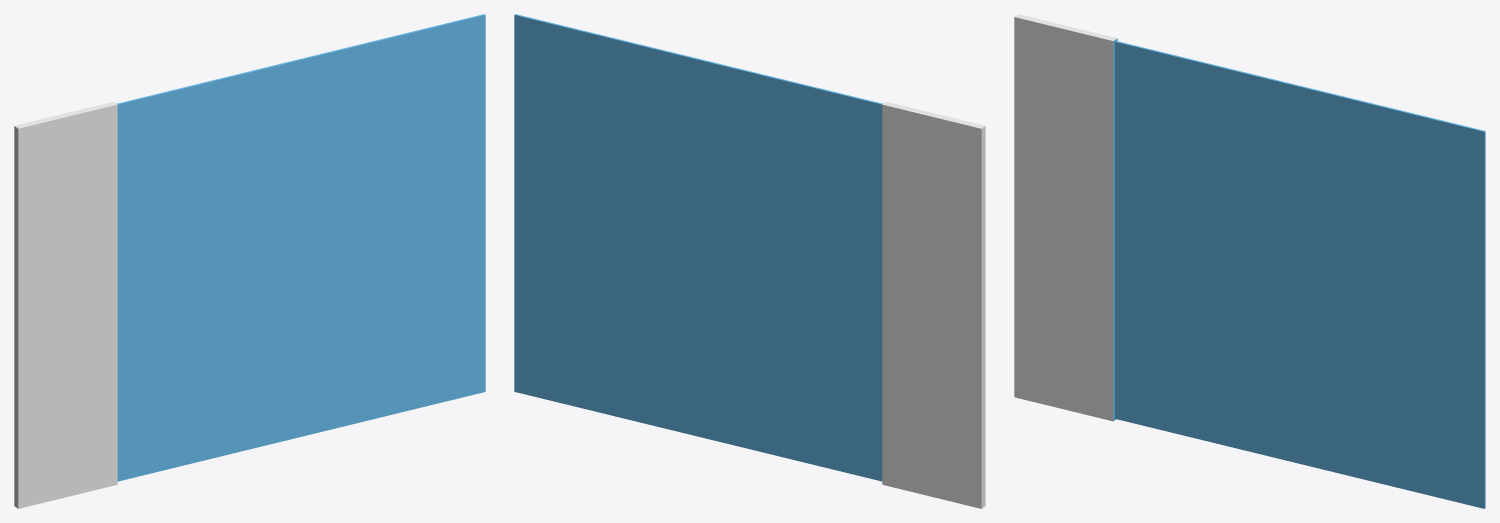
File: Cartao.fbx
3 views of the same model, side by side, from view 1: azimuth 30°, elevation 25°; view 2: azimuth 150°, elevation 25°; view 3: azimuth 330°, elevation 25° (orthographic).
Visible parts, largest first — view 1: Box001; view 2: Box001; view 3: Box001.
Part boxes in pixels (<box>): Box001: <box>14,14,485,508</box>; Box001: <box>514,14,985,508</box>; Box001: <box>1014,14,1485,508</box>.
Bounding box in the file's own units: 30.27 × 23.46 × 0.458.
